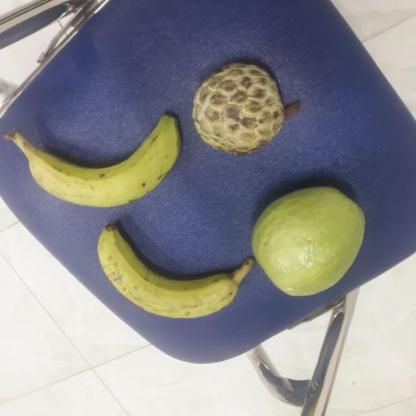annona: (193, 61, 298, 157)
banana: (101, 222, 258, 317), (23, 116, 183, 206)
guava: (253, 183, 370, 290)
